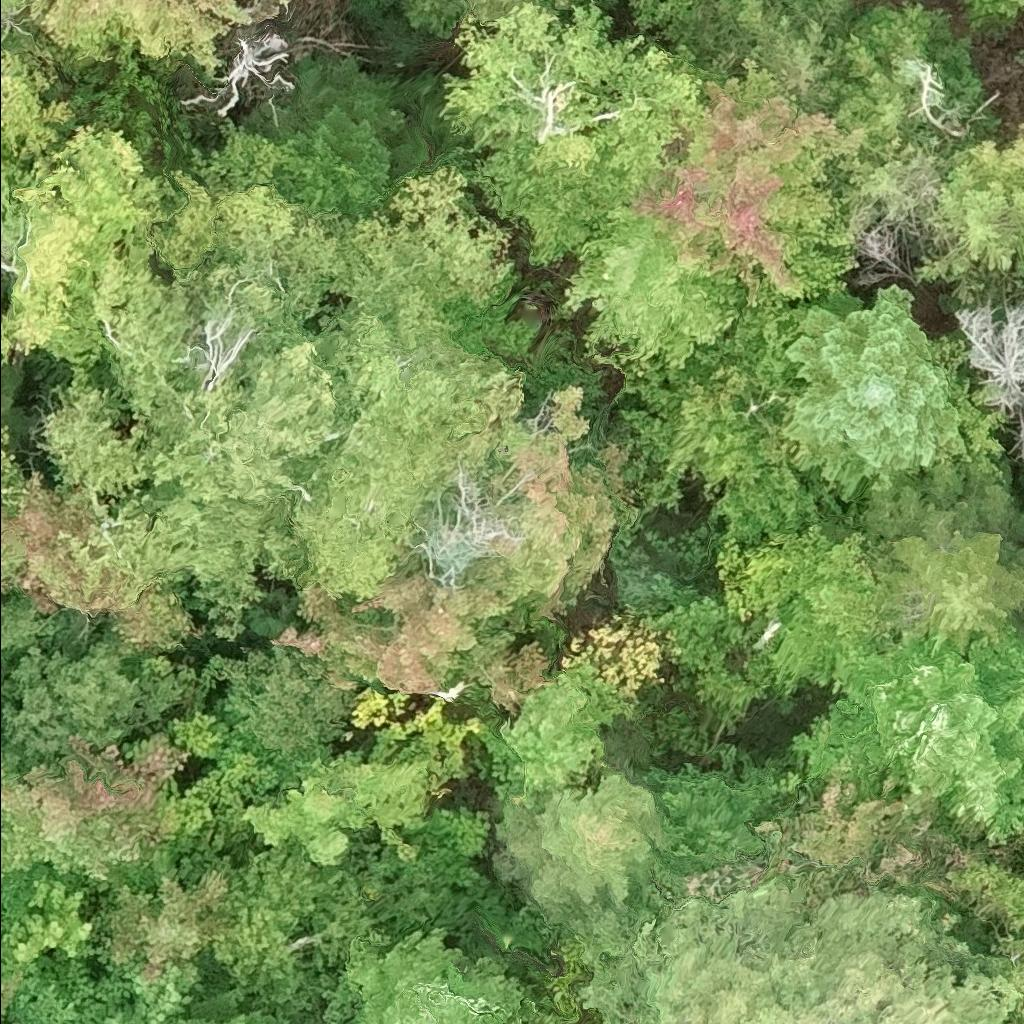crown: (271, 385, 639, 708), (36, 284, 346, 642), (261, 284, 529, 599), (558, 66, 844, 356), (577, 861, 1023, 1023), (431, 2, 695, 265), (617, 278, 848, 548), (786, 620, 1023, 849), (775, 282, 1011, 499), (0, 121, 183, 378), (151, 135, 352, 337), (0, 464, 203, 657), (495, 772, 674, 958), (329, 166, 507, 351), (0, 732, 193, 898), (864, 459, 1023, 658), (478, 657, 635, 811), (241, 749, 437, 868), (721, 523, 888, 642), (343, 924, 532, 1023), (24, 0, 295, 69), (160, 708, 283, 842), (826, 71, 936, 218), (913, 157, 1023, 301), (106, 869, 236, 981), (0, 0, 82, 173), (741, 0, 845, 114), (65, 944, 211, 1023), (943, 862, 1023, 996), (182, 30, 300, 119), (951, 300, 1023, 429), (0, 876, 94, 964), (405, 0, 587, 34), (171, 983, 292, 1023), (950, 119, 1023, 182), (0, 419, 27, 504), (1001, 405, 1023, 463), (1009, 833, 1023, 867), (1009, 1001, 1023, 1023)
